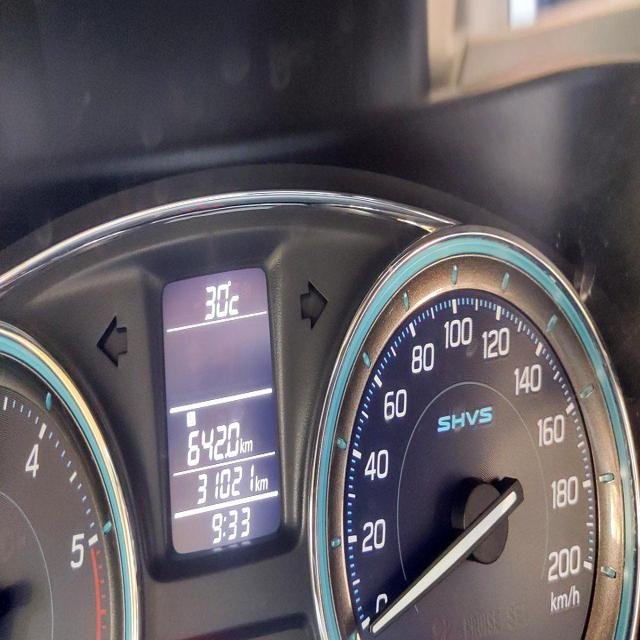odometer: (195, 461, 255, 507)
